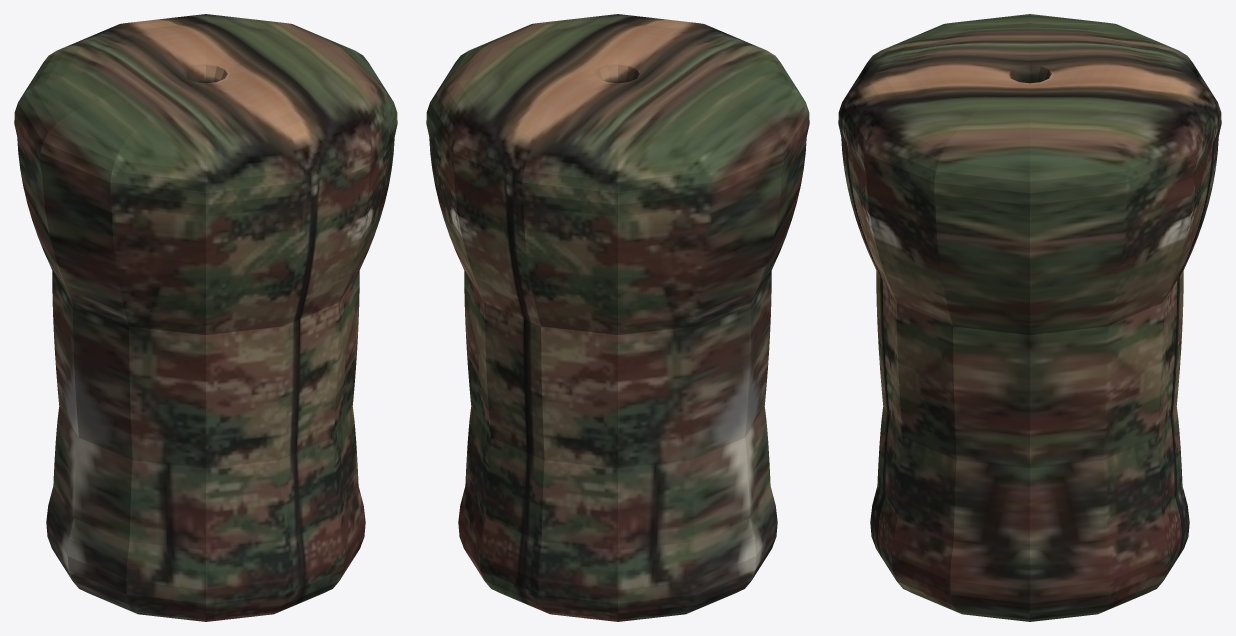
Rendered from TORSO.obj.
3 renders of one model, left to right at view 1: azimuth 30°, elevation 25°; view 2: azimuth 150°, elevation 25°; view 3: azimuth 270°, elevation 25°, orthographic.
Size of the model in its own units: 0.4356 by 0.632 by 0.4356.
